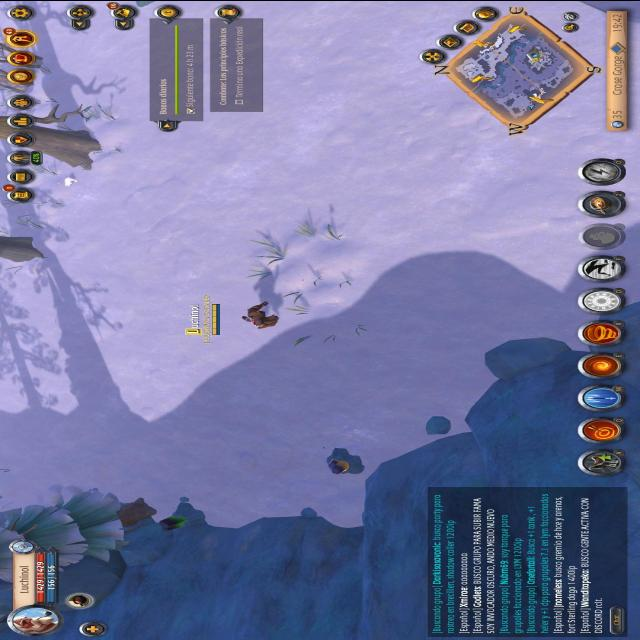piedra_cobre: (318, 442, 378, 474)
